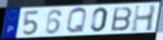0: (90, 7, 109, 33)
5: (21, 10, 42, 37)
6: (44, 9, 64, 36)
B: (110, 6, 133, 32)
H: (130, 4, 158, 33)
Q: (65, 7, 88, 35)
